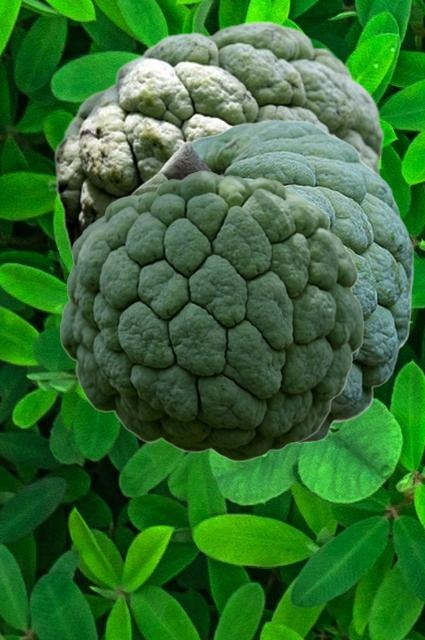atis: (129, 119, 413, 443), (59, 170, 363, 461), (53, 20, 385, 254)
